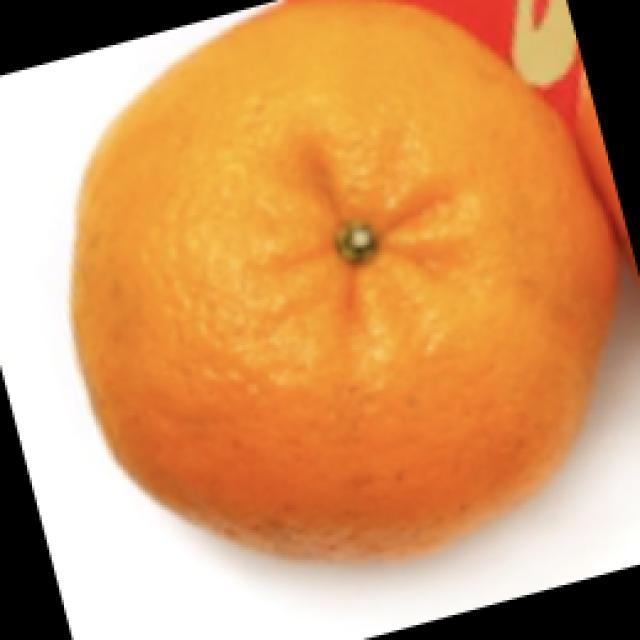matang: (73, 3, 615, 553)
